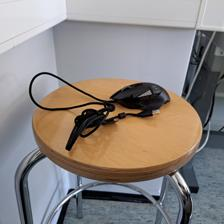mouse: (110, 81, 171, 110)
